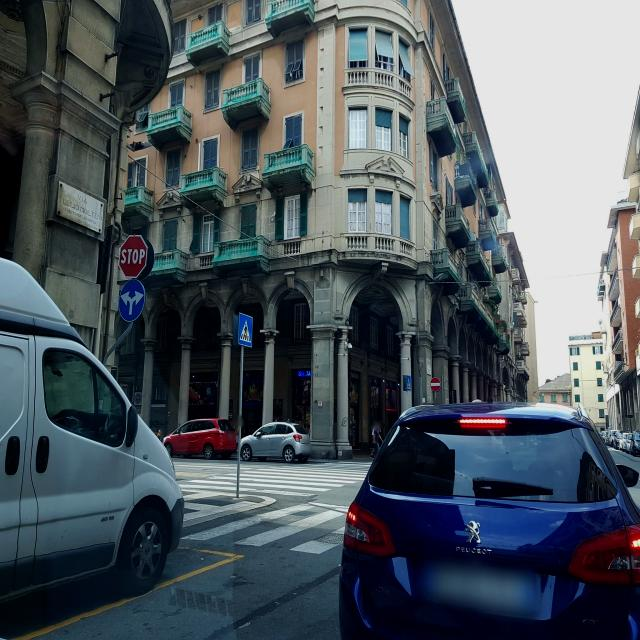car: (337, 399, 640, 640), (0, 234, 185, 616), (238, 419, 313, 464), (164, 416, 238, 461), (628, 431, 640, 456), (619, 433, 633, 452), (599, 429, 608, 439)
